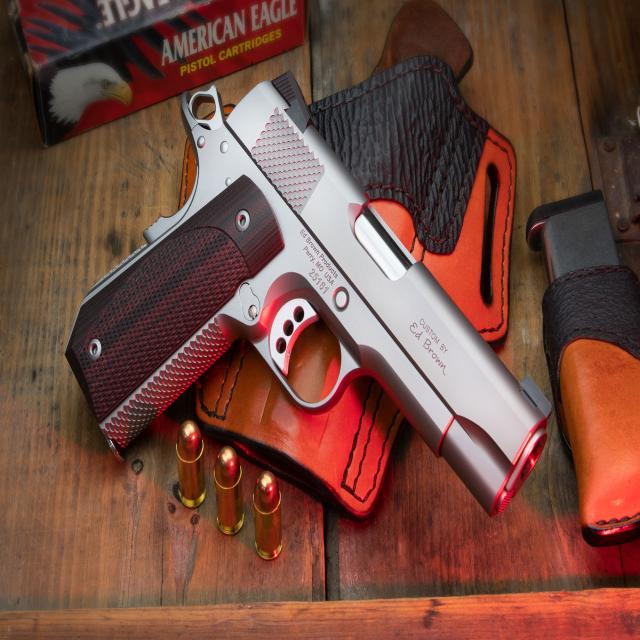HandGun: (64, 73, 551, 519)
